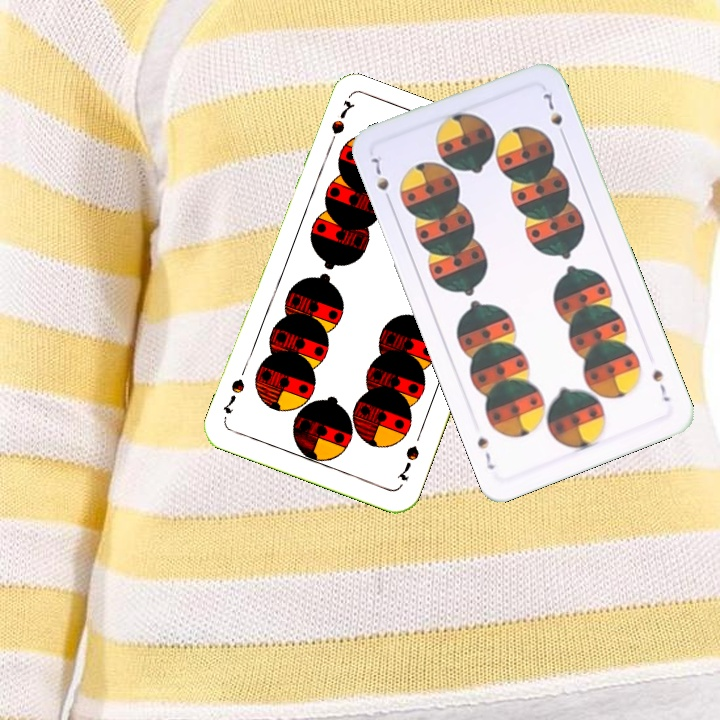S7: (324, 96, 357, 153), (366, 151, 395, 208), (392, 441, 422, 483), (648, 365, 672, 405)
